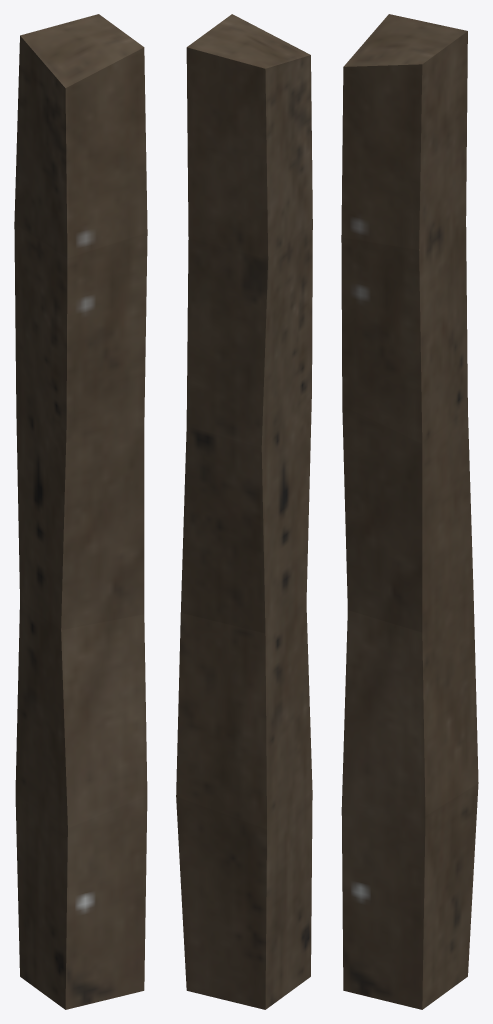
File: FenceVerticalPlank_04.fbx
3 views of the same model, side by side, from view 1: azimuth 30°, elevation 25°; view 2: azimuth 150°, elevation 25°; view 3: azimuth 330°, elevation 25° (orthographic).
Visible parts, largest first — view 1: vertical_plank.003; view 2: vertical_plank.003; view 3: vertical_plank.003.
Boxes of the visible parts, x1=… form: vertical_plank.003: x1=14, y1=14, x2=147, y2=1009; vertical_plank.003: x1=176, y1=14, x2=312, y2=1009; vertical_plank.003: x1=341, y1=14, x2=478, y2=1009.
Bounding box in the file's own units: 0.5495 × 5.41 × 0.5453.
